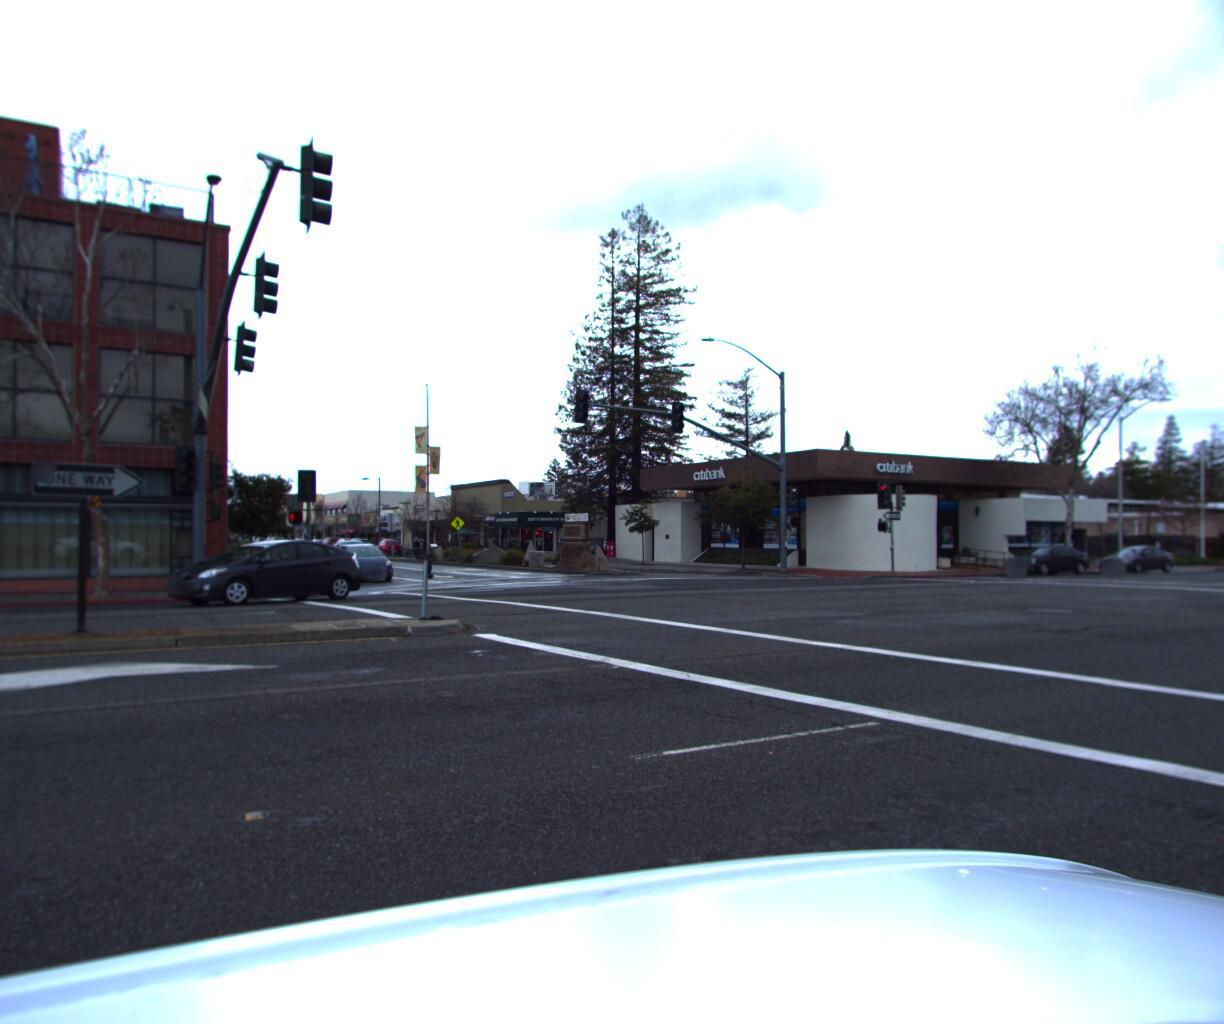car: (155, 544, 367, 617), (993, 555, 1090, 590), (1089, 547, 1174, 584), (332, 553, 399, 589), (390, 548, 434, 570), (372, 545, 406, 564)
